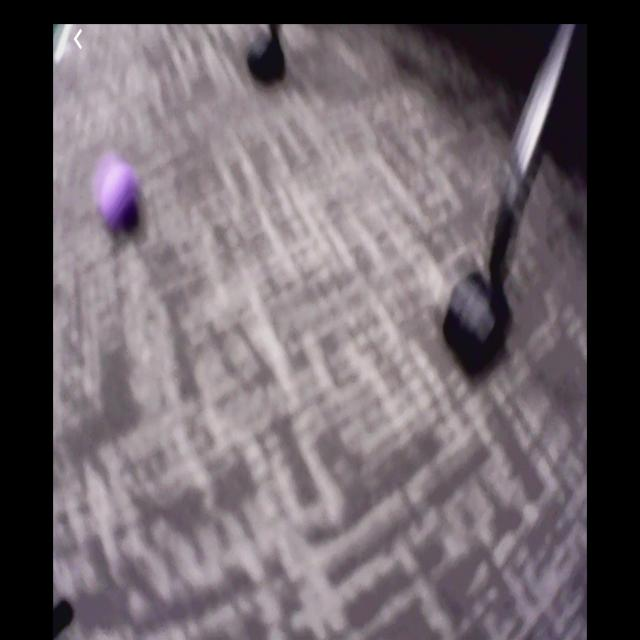ball: (97, 158, 140, 229)
